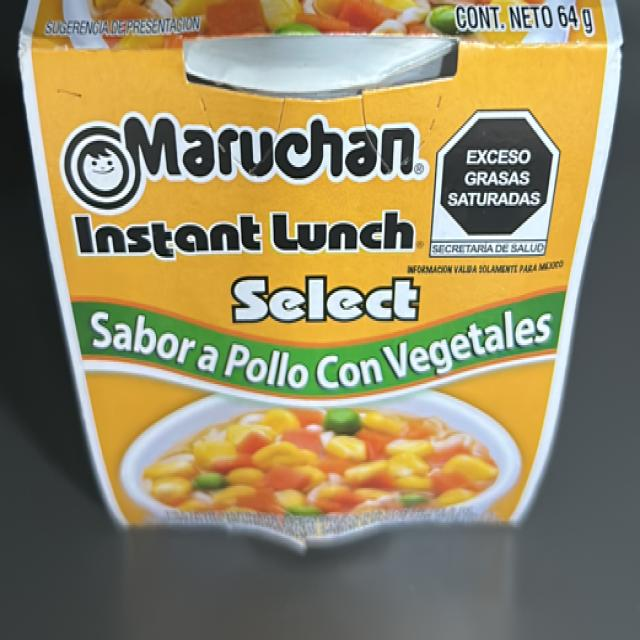maruchanPollo: (96, 42, 572, 530)
